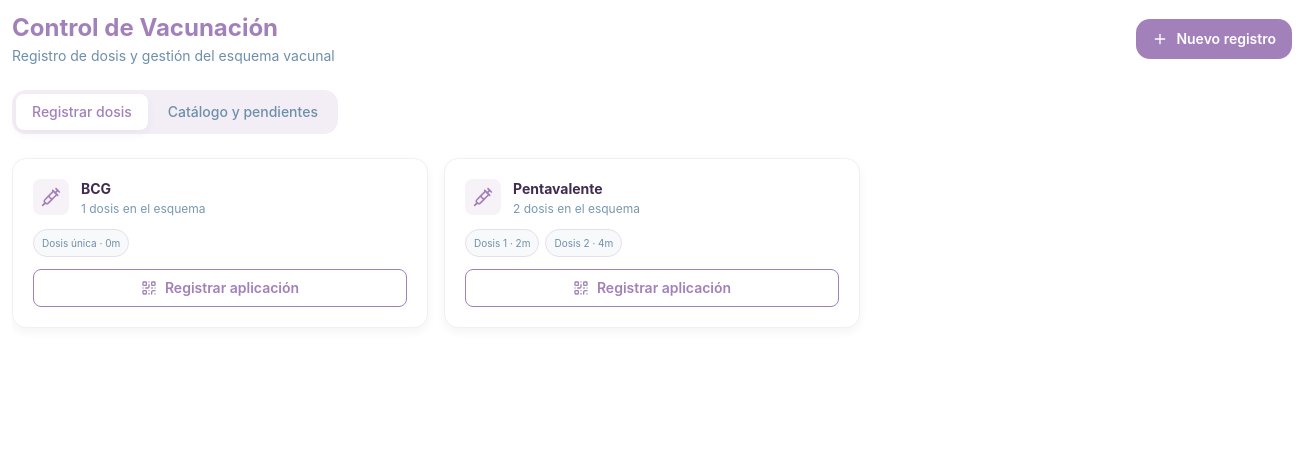
Test case: VaccinationView – catálogo y pendientes › panel de pacientes pendientes › al elegir una dosis propone el rango de edad: mínimo + 48 meses
Expected: the heading "Control de Vacunación" is shown, [12,13,278,42]
Click the button "Catálogo y pendientes" at (243,112), box [152,94,334,130]
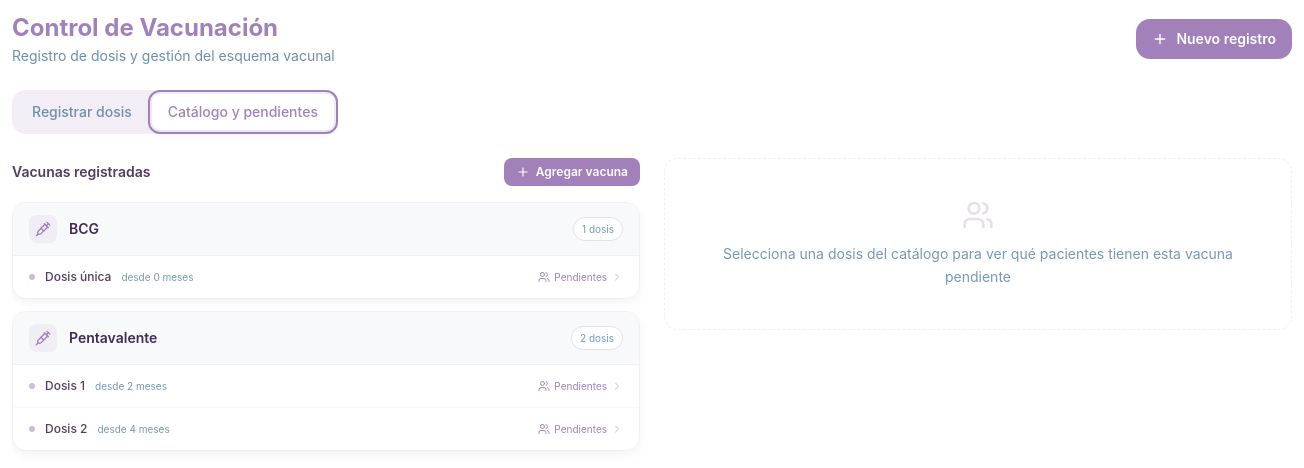
Click the button "Dosis 1 desde 2 meses Pendientes" at (65,386), box [13,365,639,408]
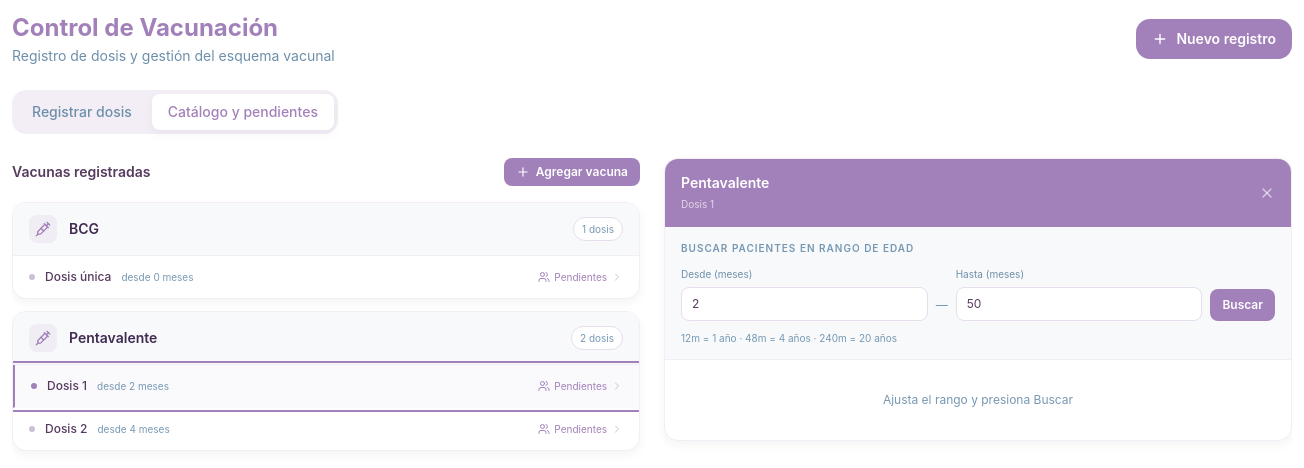
Expected: the number field below "Desde (meses)" holds "2", [681,287,928,321]
Result: the number field below "Hasta (meses)" holds "50" at [956,287,1202,321]
Result: the text "Ajusta el rango y presiona Buscar" is shown at [883,392,1073,407]
